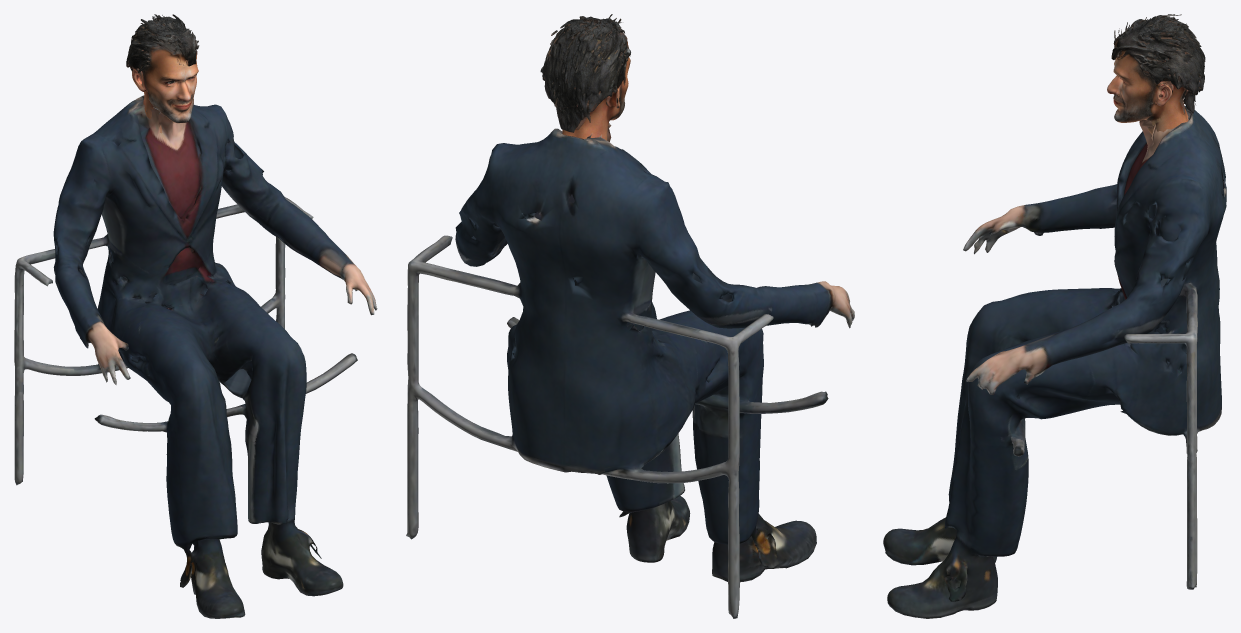
The model's file is man_sitting_in_chair_03100003nsdxo51.glb.
3 views of the same model, side by side, from view 1: azimuth 30°, elevation 25°; view 2: azimuth 150°, elevation 25°; view 3: azimuth 270°, elevation 25° (orthographic). The views are drawn at different scales.
Visible parts, largest first — view 1: Mesh_0.004, Mesh_0; view 2: Mesh_0.004, Mesh_0; view 3: Mesh_0.004, Mesh_0.
Part boxes in pixels (x1,y1,x2,y2): Mesh_0.004: [14, 95, 377, 618]; Mesh_0: [126, 14, 199, 133]; Mesh_0.004: [406, 123, 854, 618]; Mesh_0: [540, 14, 630, 140]; Mesh_0.004: [883, 106, 1226, 618]; Mesh_0: [1107, 14, 1205, 134].
Size of the model in its own units: 2.67 by 4.7 by 2.57.
2 materials, 2 textured.
